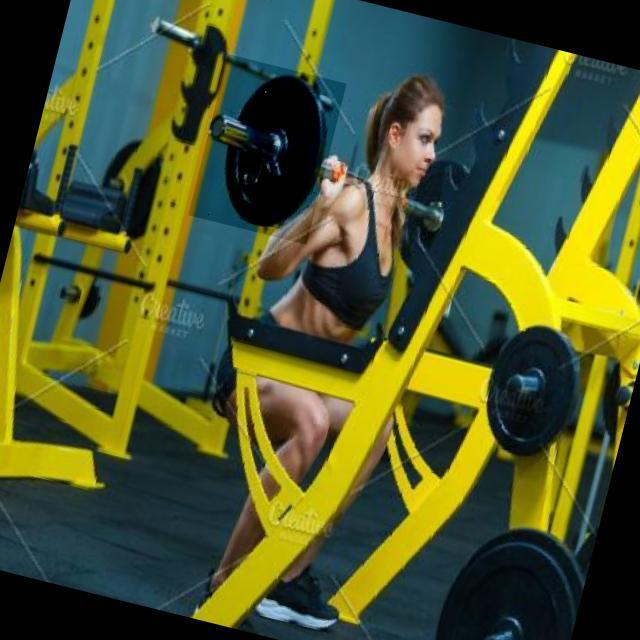barbell: (189, 55, 347, 246)
